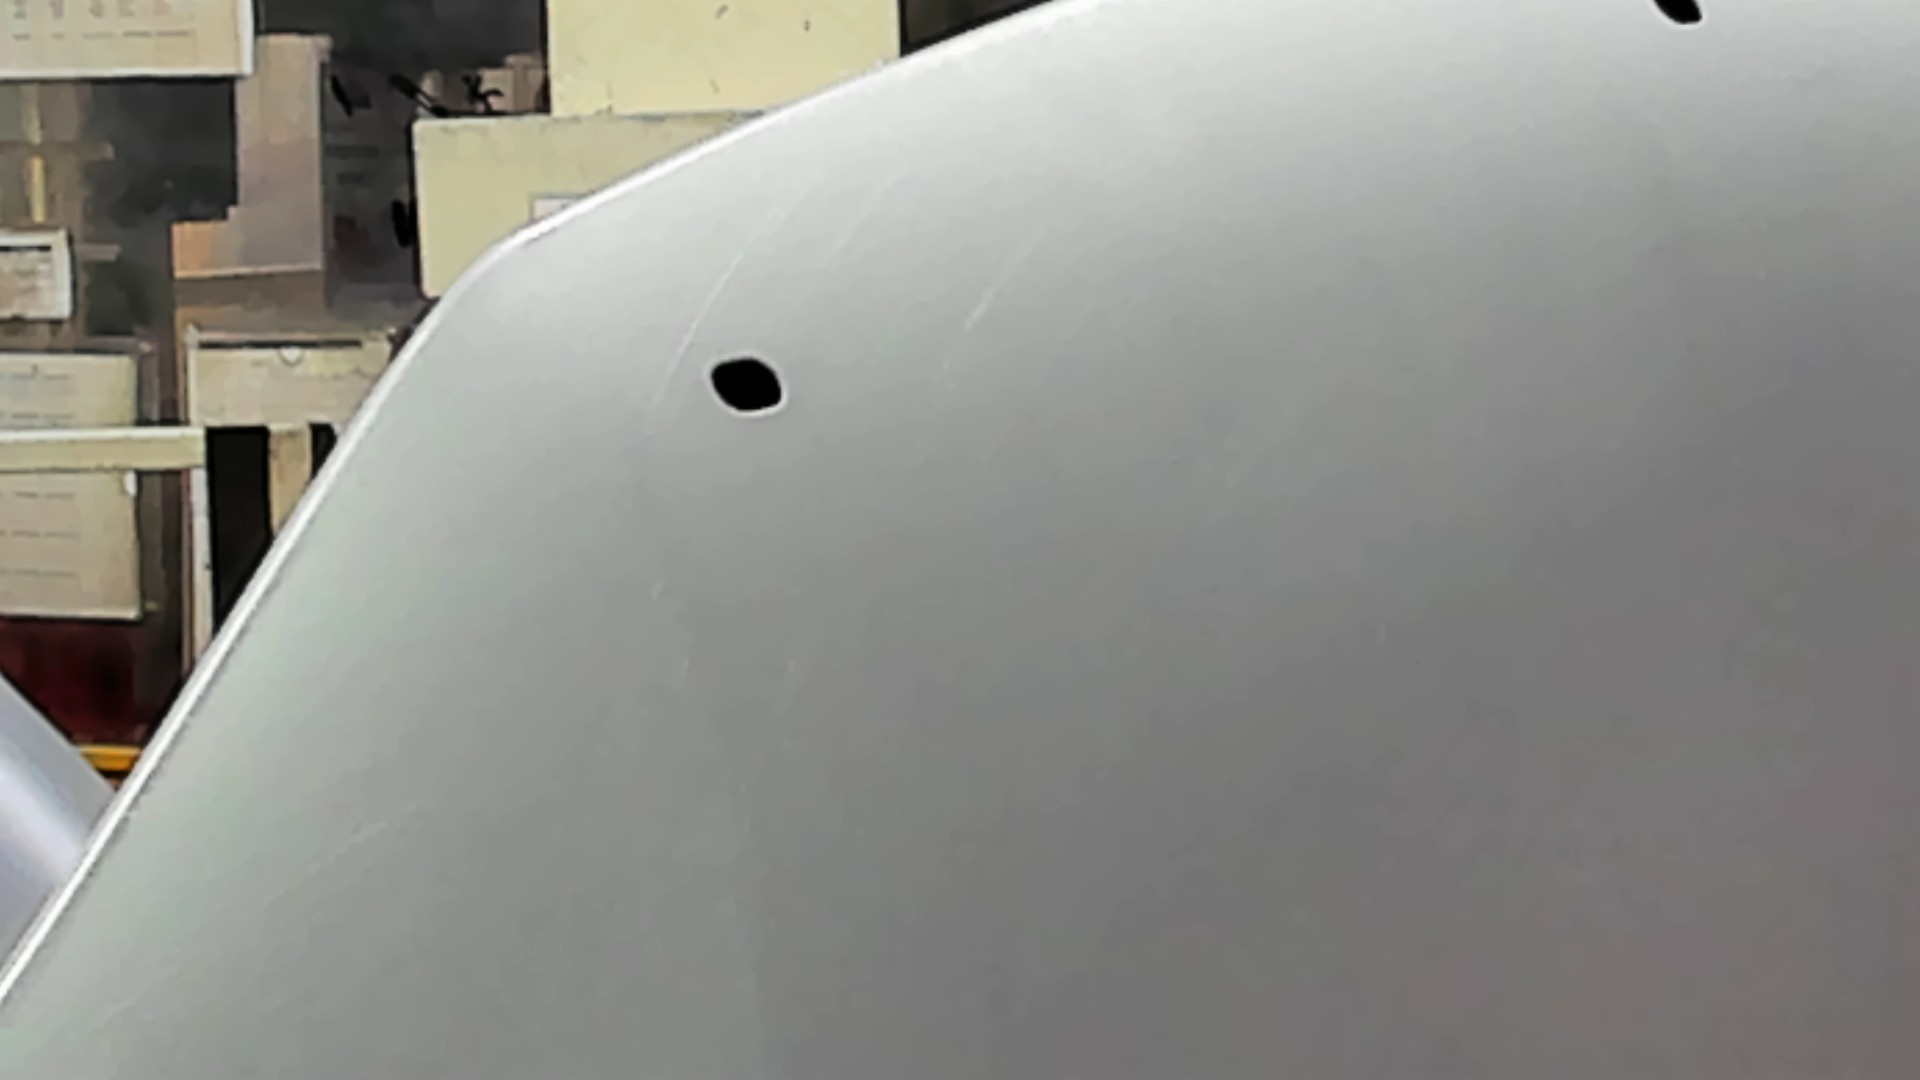amorfo: (702, 351, 793, 418), (1654, 1, 1706, 33)
